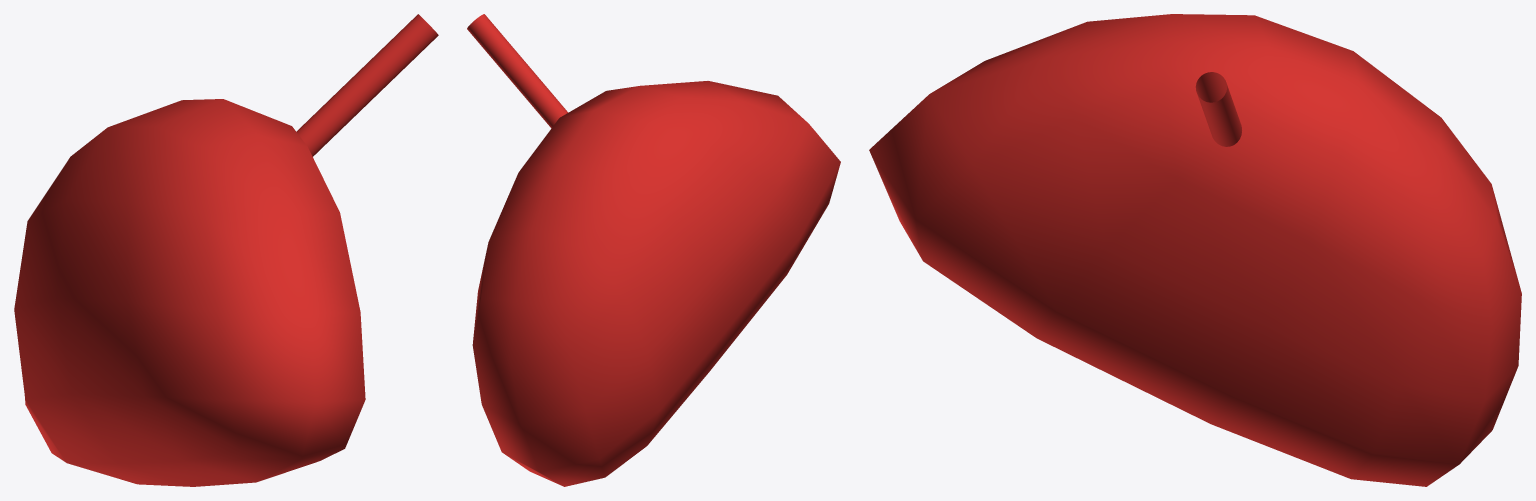
The model's file is circulatorio-cavernous-sinus-r.glb.
The picture shows the model from 3 angles, left to right: view 1: azimuth 30°, elevation 25°; view 2: azimuth 150°, elevation 25°; view 3: azimuth 270°, elevation 25°; orthographic projection. The views are drawn at different scales.
Parts seen in each view (by area): view 1: Cavernous sinus.r; view 2: Cavernous sinus.r; view 3: Cavernous sinus.r.
Part boxes in pixels (<box>): Cavernous sinus.r: <box>14,14,438,486</box>; Cavernous sinus.r: <box>467,14,840,486</box>; Cavernous sinus.r: <box>869,14,1521,486</box>.
Size of the model in its own units: 0.0133 by 0.0168 by 0.0197.
